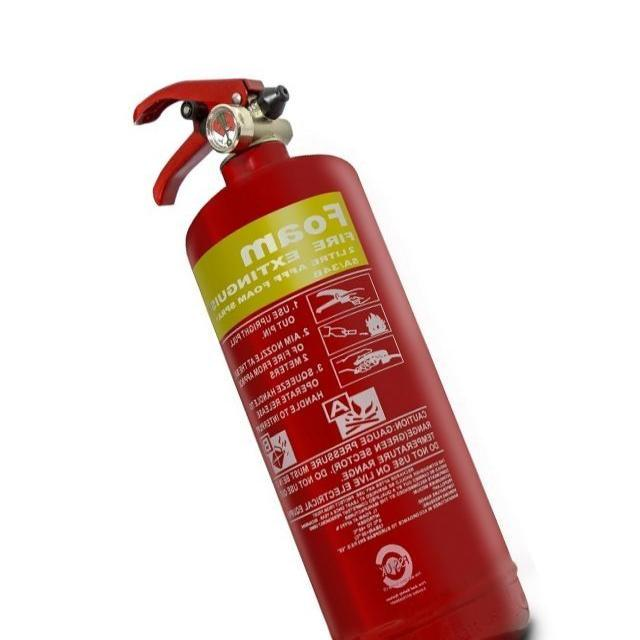fire_extinguisher: (124, 71, 539, 639)
